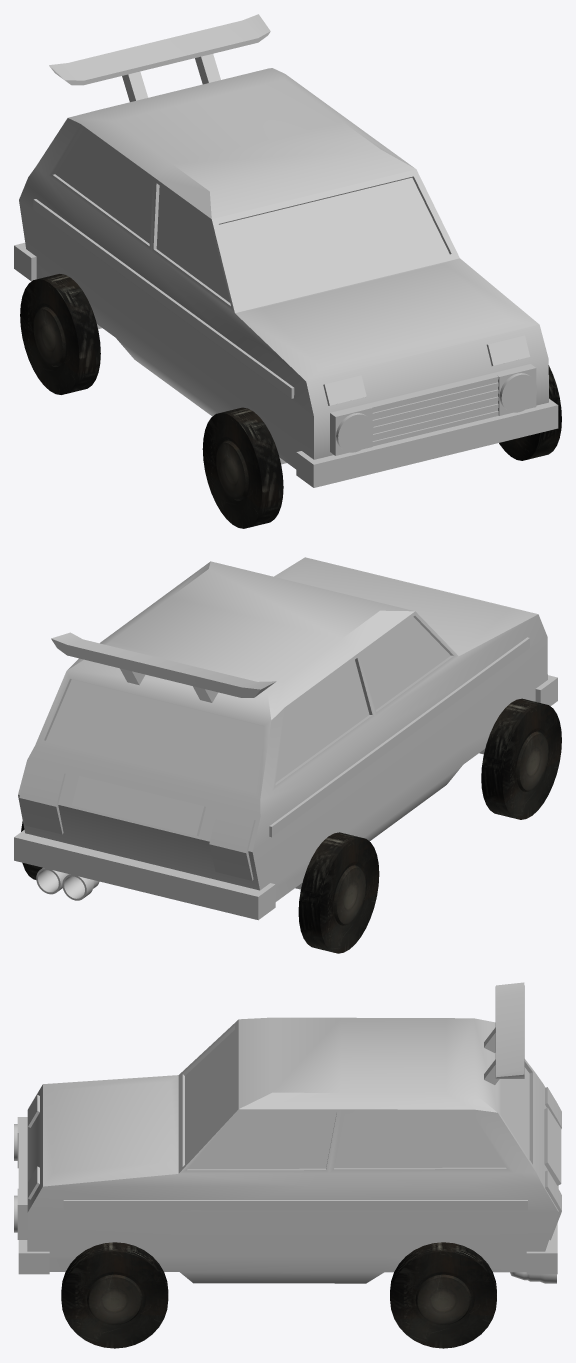
Rendered from Lada.fbx.
3 views of the same model, one above another, from view 1: azimuth 30°, elevation 25°; view 2: azimuth 150°, elevation 25°; view 3: azimuth 270°, elevation 25° (orthographic). The views are drawn at different scales.
Parts seen in each view (by area): view 1: Cube.001, Wheel.002, Wheel.003, Wheel.004; view 2: Cube.001, Wheel.003, Wheel.002; view 3: Cube.001, Wheel.004, Wheel.001.
Part boxes in pixels (x1,y1,x2,y2): Cube.001: [14, 14, 558, 487]; Wheel.002: [20, 274, 100, 394]; Wheel.003: [202, 407, 283, 528]; Wheel.004: [499, 365, 561, 460]; Cube.001: [14, 557, 557, 920]; Wheel.003: [481, 698, 561, 819]; Wheel.002: [298, 832, 379, 953]; Cube.001: [14, 982, 561, 1283]; Wheel.004: [61, 1242, 168, 1348]; Wheel.001: [390, 1242, 496, 1348].
Size of the model in its own units: 348 by 309 by 605.
